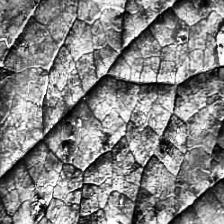Angular Leafspot: (13, 0, 224, 224)
